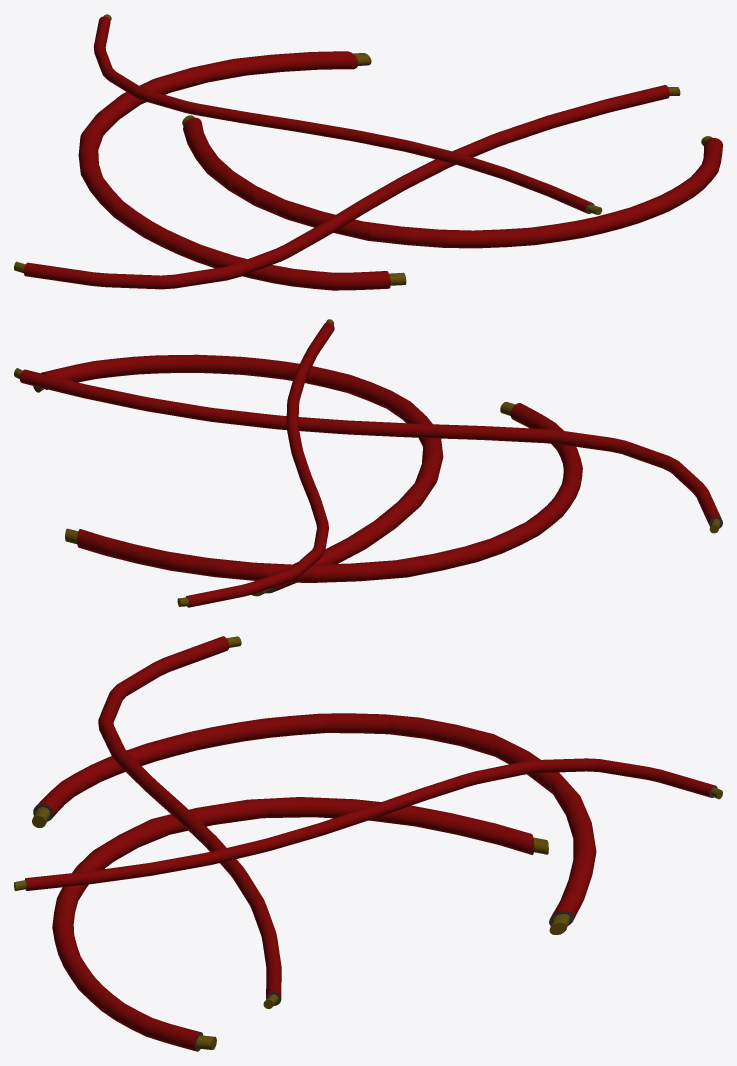
File: wire.fbx
The picture shows the model from 3 angles, top to bottom: view 1: azimuth 30°, elevation 25°; view 2: azimuth 150°, elevation 25°; view 3: azimuth 270°, elevation 25°; orthographic projection. The views are drawn at different scales.
Visible parts, largest first — view 1: Cylinder.003; view 2: Cylinder.003; view 3: Cylinder.003.
Boxes of the visible parts, left/top/right/bottom form: Cylinder.003: left=14, top=14, right=722, bottom=290; Cylinder.003: left=14, top=319, right=722, bottom=607; Cylinder.003: left=14, top=636, right=722, bottom=1051.
Size of the model in its own units: 548 by 44.62 by 443.
1 material, 1 textured.
